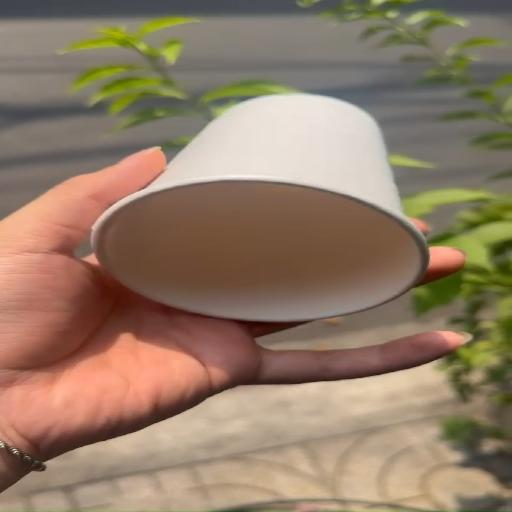Ly_giay: (92, 94, 427, 321)
